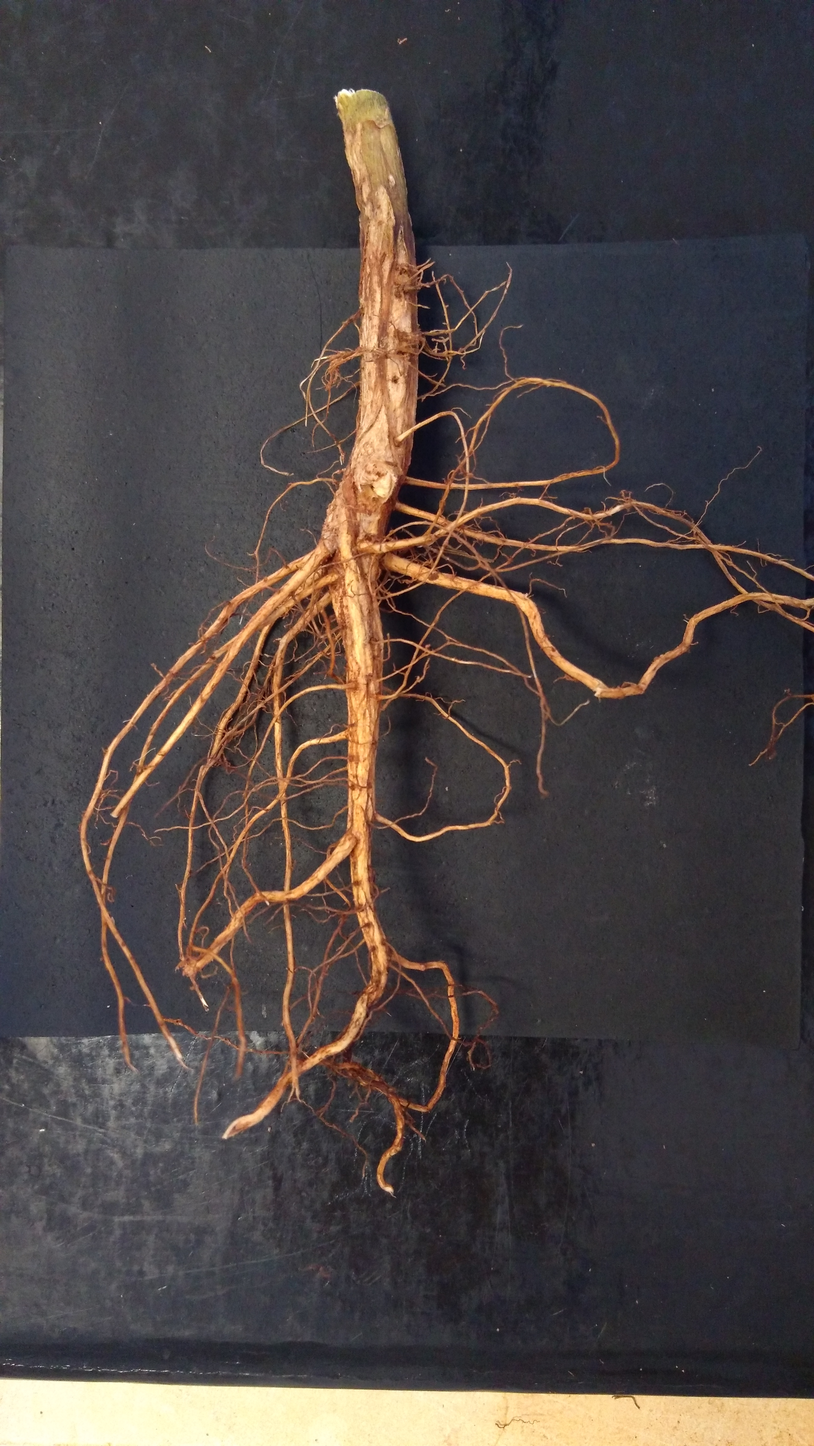nodule: (357, 1068, 375, 1087), (394, 273, 410, 293), (328, 357, 345, 374), (182, 963, 194, 977), (343, 1062, 351, 1070), (374, 1075, 380, 1082), (424, 643, 431, 648), (416, 676, 420, 680), (228, 727, 232, 730)
